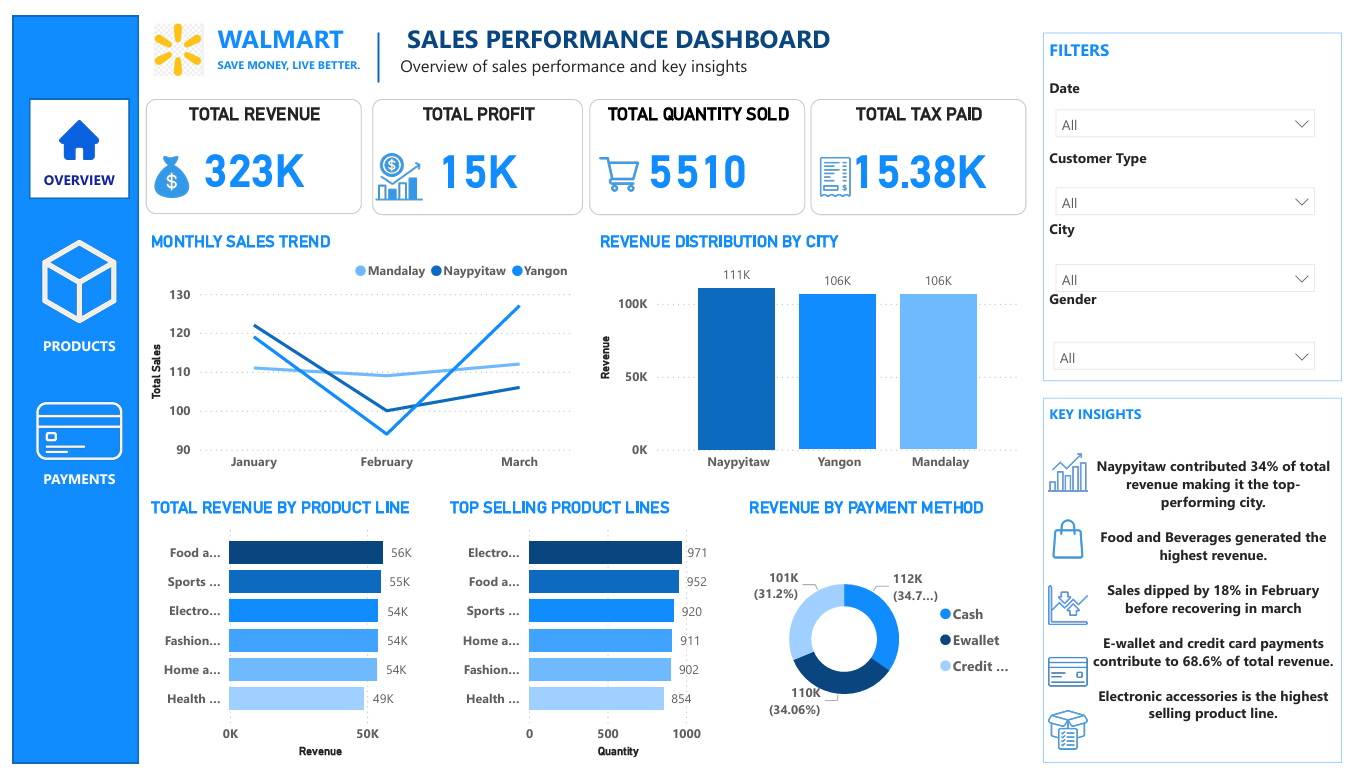

This screenshot's page, from the dashboard's own definition file:
{"tool":"powerbi","page":{"name":"Page 1","canvas":[1280,720],"ordinal":0},"visuals":[{"type":"textbox","box":[992,16,288,336],"z":0,"group":"g12"},{"type":"group","id":"g1","title":"Group 11","box":[128,80,208,112],"z":0,"group":"g8"},{"type":"card","title":"TOTAL REVENUE","fields":{"Values":["Sum(Working sheet.Total)"]},"box":[128,80,208,110.8],"z":0,"group":"g1"},{"type":"group","id":"g2","title":"Group 10","box":[341.3,80,208,112],"z":0,"group":"g9"},{"type":"card","title":"TOTAL PROFIT","fields":{"Values":["Sum(Working sheet.PROFIT)"]},"box":[346.5,80,202.8,112],"z":0,"group":"g2"},{"type":"group","id":"g3","title":"Group 2","box":[554.7,80,208,112],"z":0,"group":"g10"},{"type":"card","title":"TOTAL QUANTITY SOLD","fields":{"Values":["Sum(Working sheet.Quantity)"]},"box":[554.7,80,208,112],"z":0,"group":"g3"},{"type":"group","id":"g4","title":"Group 9","box":[768,80,208,112],"z":0,"group":"g11"},{"type":"card","title":"TOTAL TAX PAID","fields":{"Values":["Sum(Working sheet.Tax 5%)"]},"box":[768,80,208,112],"z":0,"group":"g4"},{"type":"group","id":"g5","title":"Group 14","box":[0,208,128,128],"z":0,"group":"g7"},{"type":"image","box":[16,208,96,96],"z":0,"group":"g17"},{"type":"lineChart","title":" MONTHLY SALES TREND","fields":{"Category":["Working sheet.Date.Variation.Date Hierarchy.Month","Working sheet.Date.Variation.Date Hierarchy.Day"],"Y":["CountNonNull(Working sheet.Total)"],"Series":["Working sheet.City"]},"box":[128,208,416,240],"z":0},{"type":"image","box":[16,352,96,96],"z":0,"group":"g14"},{"type":"slicer","fields":{"Values":["Working sheet.Date"]},"box":[994,80,270,45],"z":1000,"group":"g12"},{"type":"image","box":[128,116.9,50,75.1],"z":1000,"group":"g1"},{"type":"image","box":[341.3,117.3,62.4,74.7],"z":1000,"group":"g2"},{"type":"image","box":[560,117.3,48,74.7],"z":1000,"group":"g3"},{"type":"image","box":[768,117.3,48,74.7],"z":1000,"group":"g4"},{"type":"columnChart","title":"REVENUE DISTRIBUTION BY CITY","fields":{"Y":["Sum(Working sheet.Total)"],"Category":["Working sheet.City"]},"box":[560,208,416,240],"z":1000},{"type":"textbox","box":[0,304,128,32],"z":1000,"group":"g17"},{"type":"textbox","box":[0,432,128,32],"z":1000,"group":"g14"},{"type":"shape","box":[0,-0.3,121.3,720.3],"z":2000},{"type":"slicer","fields":{"Values":["Working sheet.Customer type"]},"box":[994,154.7,270,45],"z":2000,"group":"g12"},{"type":"slicer","title":"CITY","fields":{"Values":["Working sheet.City"]},"box":[994,229.3,270,45],"z":3000,"group":"g12"},{"type":"barChart","title":"TOTAL REVENUE BY PRODUCT LINE","fields":{"Category":["Working sheet.Product line"],"Y":["Sum(Working sheet.Total)"]},"box":[128,464,272,255],"z":3000},{"type":"slicer","fields":{"Values":["Working sheet.Gender"]},"box":[992,304,272,48],"z":4000,"group":"g12"},{"type":"donutChart","title":"REVENUE BY PAYMENT METHOD","fields":{"Category":["Working sheet.Payment"],"Y":["Sum(Working sheet.Total)"]},"box":[704,464,272,255],"z":4000},{"type":"barChart","title":"TOP SELLING PRODUCT LINES","fields":{"Category":["Working sheet.Product line"],"Y":["Sum(Working sheet.Quantity)"]},"box":[416,464,272,255],"z":5000},{"type":"textbox","box":[368,0,464,80],"z":6000},{"type":"textbox","box":[192,0,176,80],"z":7000},{"type":"shape","box":[304,16,96,48],"z":8000},{"type":"image","box":[128,0,64,64],"z":9000},{"type":"textbox","box":[992,368,288,352],"z":10000,"group":"g15"},{"type":"group","id":"g6","title":"Group 3","box":[0,352,128,112],"z":11000},{"type":"image","box":[992,608,48,48],"z":12000,"group":"g15"},{"type":"group","id":"g7","title":"Group 4","box":[0,208,128,128],"z":13000},{"type":"image","box":[992,480,48,48],"z":14000,"group":"g15"},{"type":"shape","box":[16,80,96,96],"z":15000,"group":"g13"},{"type":"group","id":"g8","title":"Group 5","box":[128,80,208,112],"z":15000},{"type":"image","box":[992,544,48,48],"z":16000,"group":"g15"},{"type":"group","id":"g9","title":"Group 6","box":[341.3,80,208,112],"z":17000},{"type":"image","box":[32,96,64,48],"z":17000,"group":"g16"},{"type":"image","box":[992,416,48,48],"z":18000,"group":"g15"},{"type":"group","id":"g10","title":"Group 7","box":[554.7,80,208,112],"z":19000},{"type":"group","id":"g11","title":"Group 8","box":[768,80,208,112],"z":20000},{"type":"textbox","box":[16,144,96,32],"z":20000,"group":"g16"},{"type":"group","id":"g12","title":"Group 1","box":[992,16,288,336],"z":21000},{"type":"group","id":"g13","title":"Group 15","box":[16,80,96,96],"z":22000},{"type":"image","box":[992,656,48,64],"z":23000,"group":"g15"},{"type":"group","id":"g14","title":"Group 16","box":[0,352,128,112],"z":23001,"group":"g6"},{"type":"group","id":"g15","title":"Group 17","box":[992,368,288,352],"z":23001},{"type":"group","id":"g16","title":"Group 13","box":[16,96,96,80],"z":25001,"group":"g13"},{"type":"group","id":"g17","title":"Group 12","box":[0,208,128,128],"z":25001,"group":"g5"}]}

Visuals, with their boxes in screenshot pixels (x1, y1, x2, y2), scaled from the page's 1280x720 canvas onto the 1349x775 screenshot:
textbox: [1045,17,1348,379]
"Group 11" group: [135,86,354,207]
"TOTAL REVENUE" card: [135,86,354,205]
"Group 10" group: [360,86,579,207]
"TOTAL PROFIT" card: [365,86,579,207]
"Group 2" group: [585,86,804,207]
"TOTAL QUANTITY SOLD" card: [585,86,804,207]
"Group 9" group: [809,86,1029,207]
"TOTAL TAX PAID" card: [809,86,1029,207]
"Group 14" group: [0,224,135,362]
image: [17,224,118,327]
" MONTHLY SALES TREND" lineChart: [135,224,573,482]
image: [17,379,118,482]
slicer - Working sheet.Date: [1048,86,1332,135]
image: [135,126,188,207]
image: [360,126,425,207]
image: [590,126,641,207]
image: [809,126,860,207]
"REVENUE DISTRIBUTION BY CITY" columnChart: [590,224,1029,482]
textbox: [0,327,135,362]
textbox: [0,465,135,499]
shape: [0,0,128,774]
slicer - Working sheet.Customer type: [1048,167,1332,215]
"CITY" slicer: [1048,247,1332,295]
"TOTAL REVENUE BY PRODUCT LINE" barChart: [135,499,422,774]
slicer - Working sheet.Gender: [1045,327,1332,379]
"REVENUE BY PAYMENT METHOD" donutChart: [742,499,1029,774]
"TOP SELLING PRODUCT LINES" barChart: [438,499,725,774]
textbox: [388,0,877,86]
textbox: [202,0,388,86]
shape: [320,17,422,69]
image: [135,0,202,69]
textbox: [1045,396,1348,774]
"Group 3" group: [0,379,135,499]
image: [1045,654,1096,706]
"Group 4" group: [0,224,135,362]
image: [1045,517,1096,568]
shape: [17,86,118,189]
"Group 5" group: [135,86,354,207]
image: [1045,586,1096,637]
"Group 6" group: [360,86,579,207]
image: [34,103,101,155]
image: [1045,448,1096,499]
"Group 7" group: [585,86,804,207]
"Group 8" group: [809,86,1029,207]
textbox: [17,155,118,189]
"Group 1" group: [1045,17,1348,379]
"Group 15" group: [17,86,118,189]
image: [1045,706,1096,774]
"Group 16" group: [0,379,135,499]
"Group 17" group: [1045,396,1348,774]
"Group 13" group: [17,103,118,189]
"Group 12" group: [0,224,135,362]
